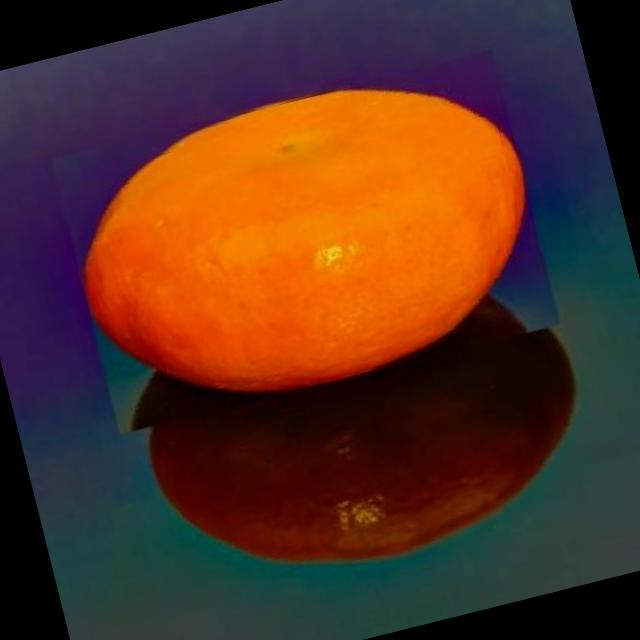Orange: (51, 48, 560, 434)
